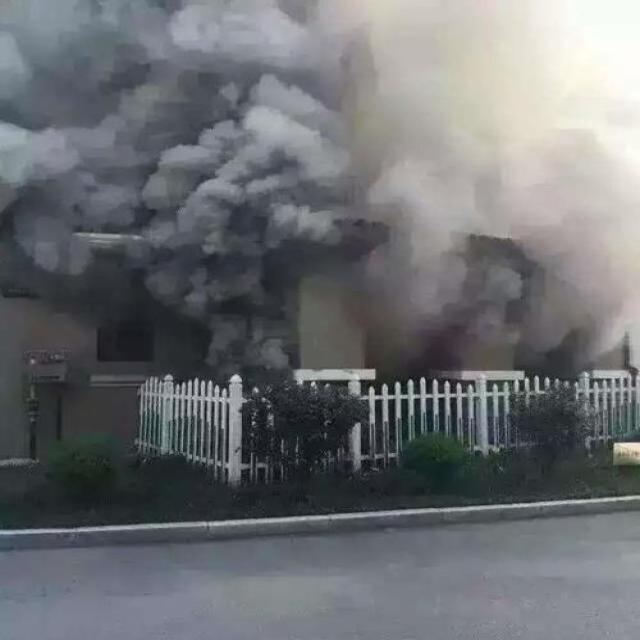Smoke: (6, 1, 345, 374), (345, 0, 640, 367)
